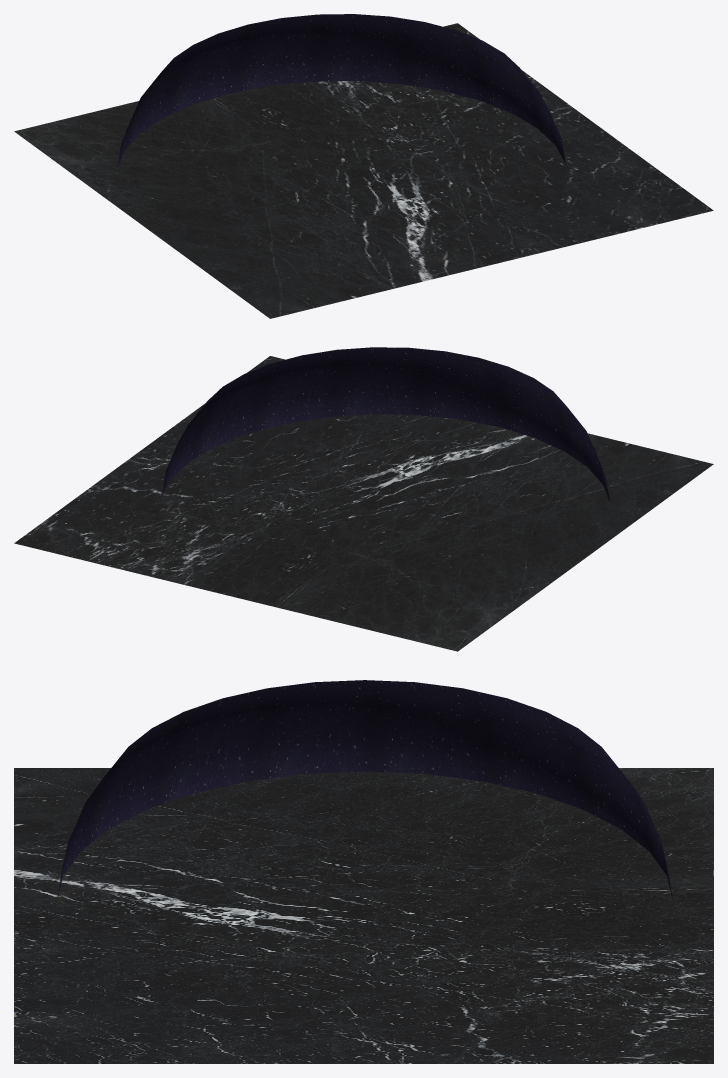
3 views of the same model, one above another, from view 1: azimuth 30°, elevation 25°; view 2: azimuth 150°, elevation 25°; view 3: azimuth 270°, elevation 25° (orthographic). The views are drawn at different scales.
Visible parts, largest first — view 1: Plane.001, bkg_infinity; view 2: Plane.001, bkg_infinity; view 3: Plane.001, bkg_infinity.
Boxes of the visible parts, bbox=[...] form: Plane.001: bbox=[14, 23, 713, 318]; bkg_infinity: bbox=[117, 14, 565, 168]; Plane.001: bbox=[14, 356, 713, 651]; bkg_infinity: bbox=[161, 347, 609, 501]; Plane.001: bbox=[14, 768, 713, 1063]; bkg_infinity: bbox=[57, 680, 672, 899].
Bounding box in the file's own units: 20.63 × 3.74 × 20.63.
Materials: 2 (2 with a texture image).
